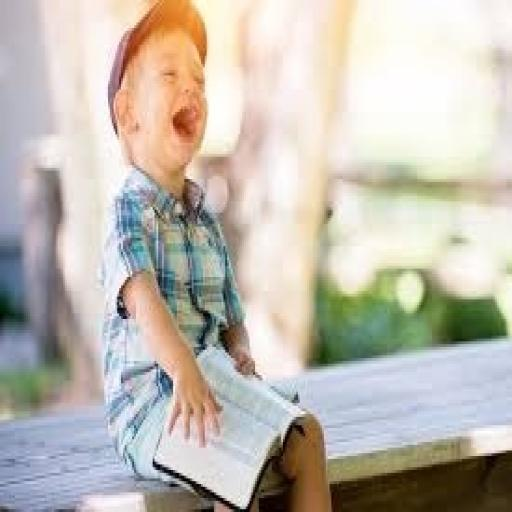laughing: (89, 3, 339, 506)
